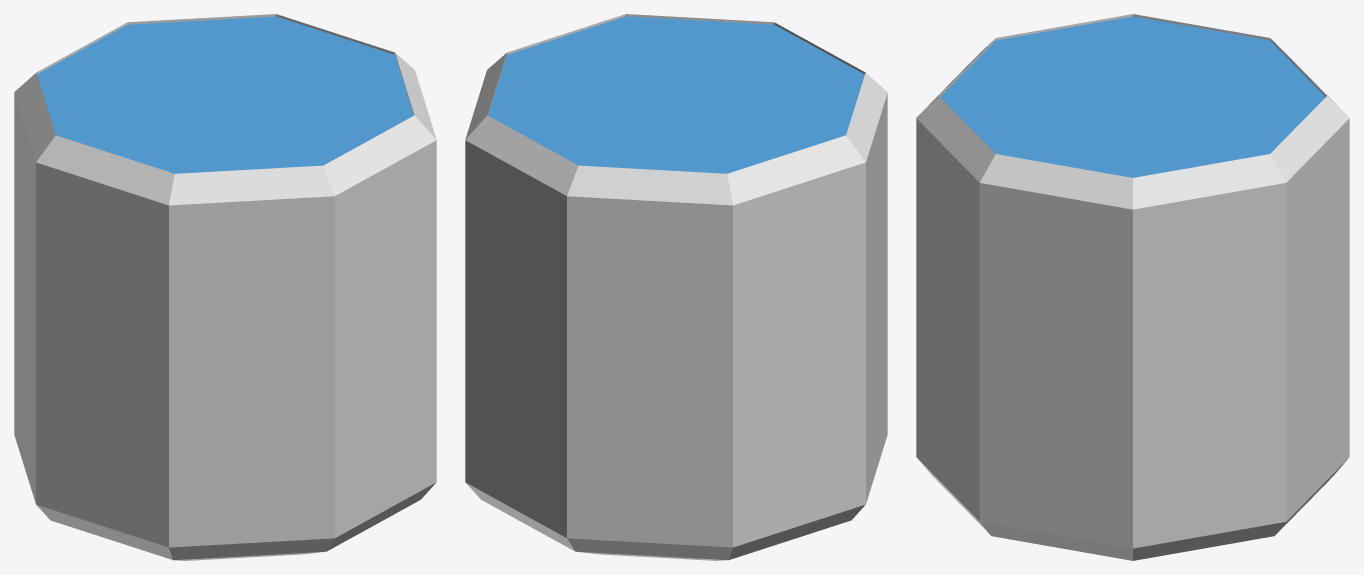
The model's file is beaker.fbx.
3 renders of one model, left to right at view 1: azimuth 30°, elevation 25°; view 2: azimuth 150°, elevation 25°; view 3: azimuth 270°, elevation 25°, orthographic.
Parts seen in each view (by area): view 1: Cylinder, Liquid; view 2: Cylinder, Liquid; view 3: Cylinder, Liquid.
Boxes of the visible parts, x1,y1,x2,y2 form: Cylinder: [14, 14, 436, 560]; Liquid: [37, 16, 413, 173]; Cylinder: [465, 14, 887, 560]; Liquid: [488, 16, 864, 173]; Cylinder: [916, 14, 1349, 560]; Liquid: [940, 16, 1325, 177].
Bounding box in the file's own units: 347 × 353 × 347.
